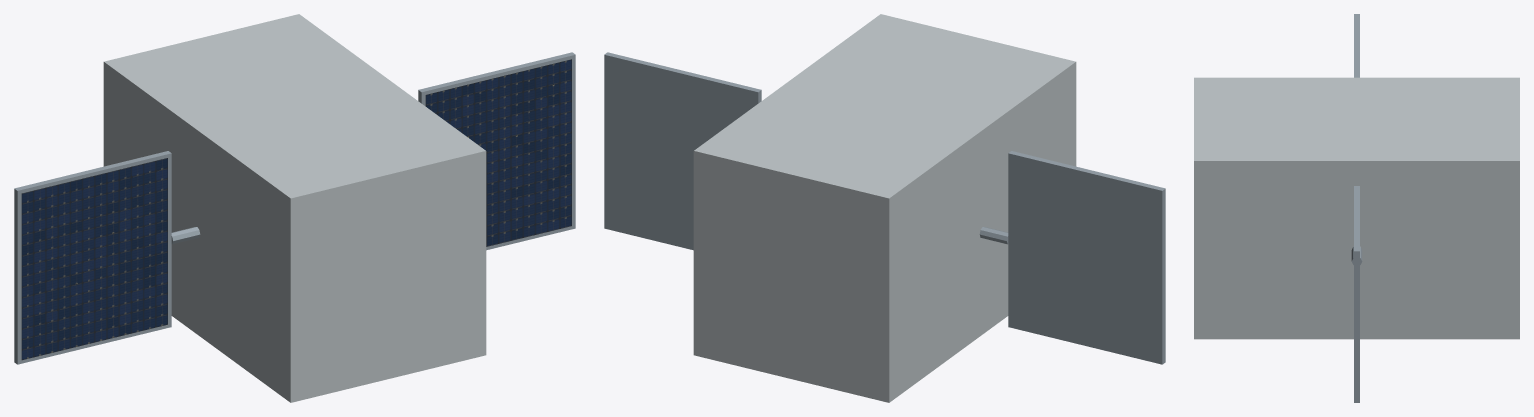
Rendered from ref-hs-601hp-25727.glb.
The picture shows the model from 3 angles, left to right: view 1: azimuth 30°, elevation 25°; view 2: azimuth 150°, elevation 25°; view 3: azimuth 270°, elevation 25°; orthographic projection. The views are drawn at different scales.
Visible parts, largest first — view 1: Spacecraft body, Photovoltaic laminates (×2), Array frame (×2); view 2: Spacecraft body, Array frame (×2); view 3: Spacecraft body, Array frame (×2).
Boxes of the visible parts, bbox=[...] form: Spacecraft body: bbox=[103, 14, 486, 402]; Photovoltaic laminates (×2): bbox=[21, 59, 571, 360]; Array frame (×2): bbox=[14, 52, 575, 364]; Spacecraft body: bbox=[693, 14, 1076, 402]; Array frame (×2): bbox=[604, 52, 1165, 364]; Spacecraft body: bbox=[1194, 77, 1519, 339]; Array frame (×2): bbox=[1354, 14, 1359, 402].
Size of the model in its own units: 10 by 3.5 by 5.8.
Materials: 3 (1 with a texture image).
